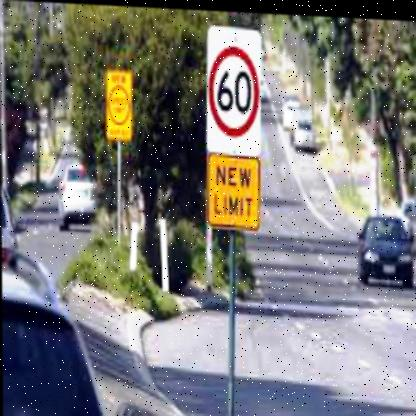Speed Limit -60-: (208, 41, 258, 136)
